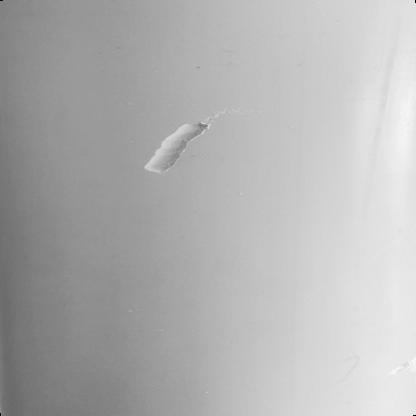sunshang: (143, 120, 209, 175)
